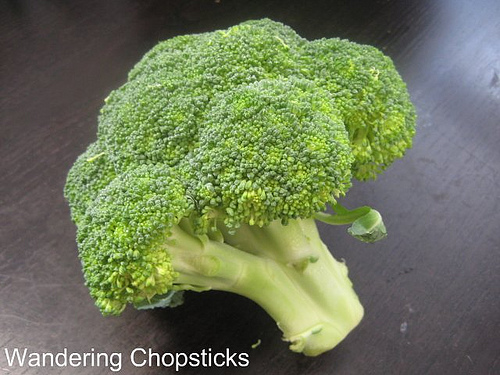broccoli: (52, 13, 424, 364)
